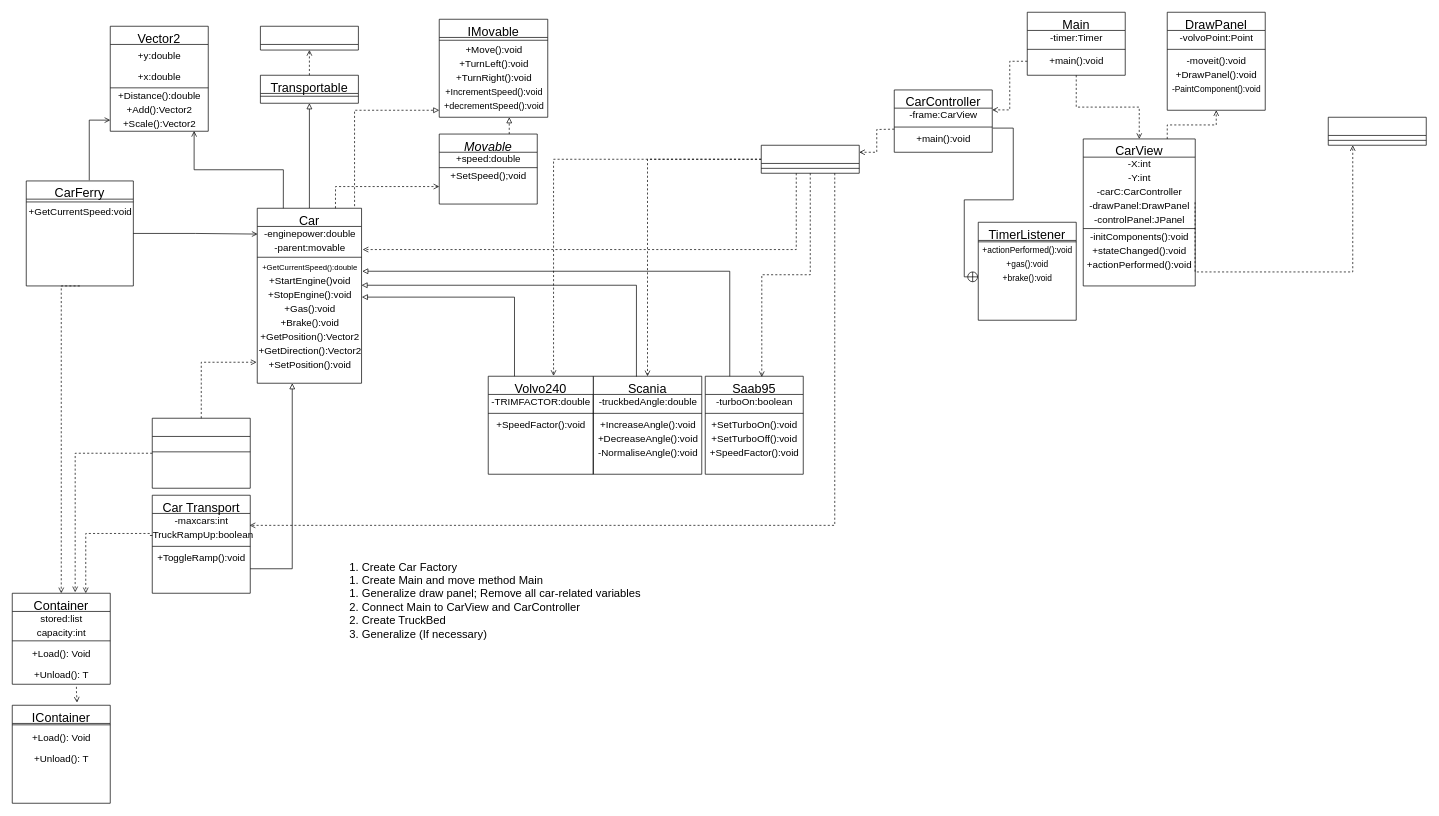
Some shapes in this 1439 by 816 pixel diagram are drawn without their labels. Here are the shapes that lost their labels. From the top down, the centre of each, then its label:
At point (309, 38): "ITransportable".
At point (1377, 131): "Swing".
At point (810, 159): "CarFactory".
At point (201, 453): "Workshop".
